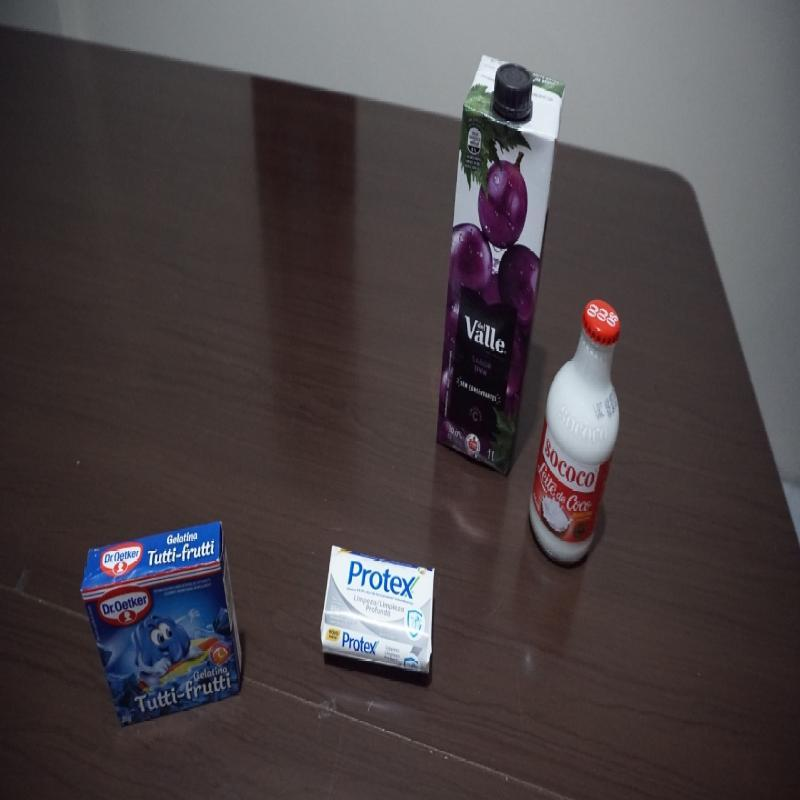Coconut Milk: (527, 297, 622, 567)
Gelatine: (80, 520, 245, 731)
Soap: (320, 541, 438, 680)
